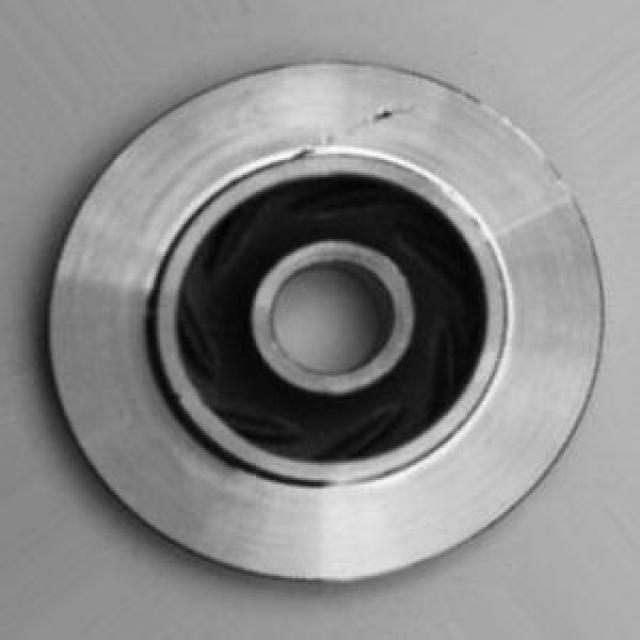Defect: (285, 137, 328, 168)
